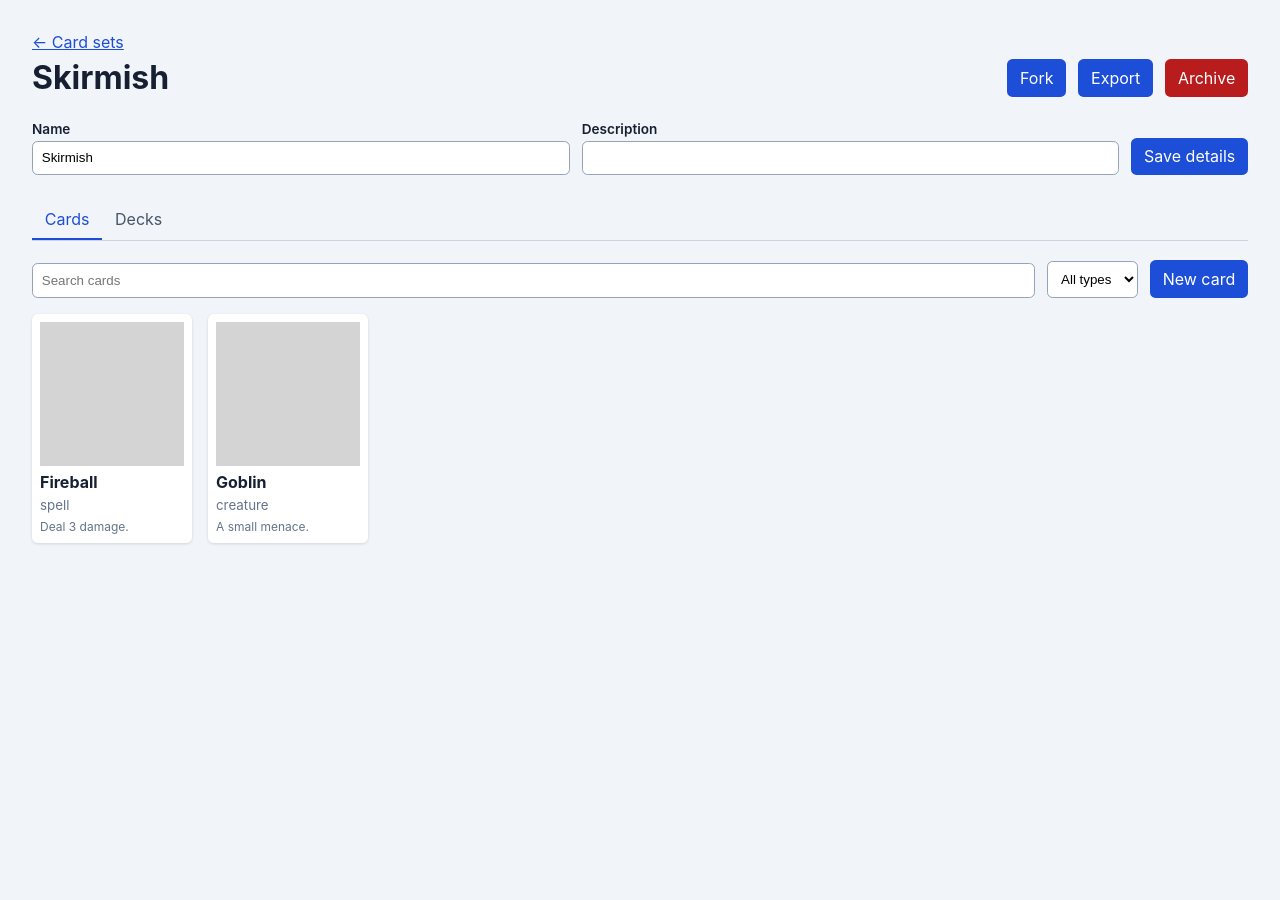
it: SetScreen › offers a fork when archiving is refused because a room uses the set
Click the button "Archive" at (1207,78), box [1165, 59, 1248, 97]
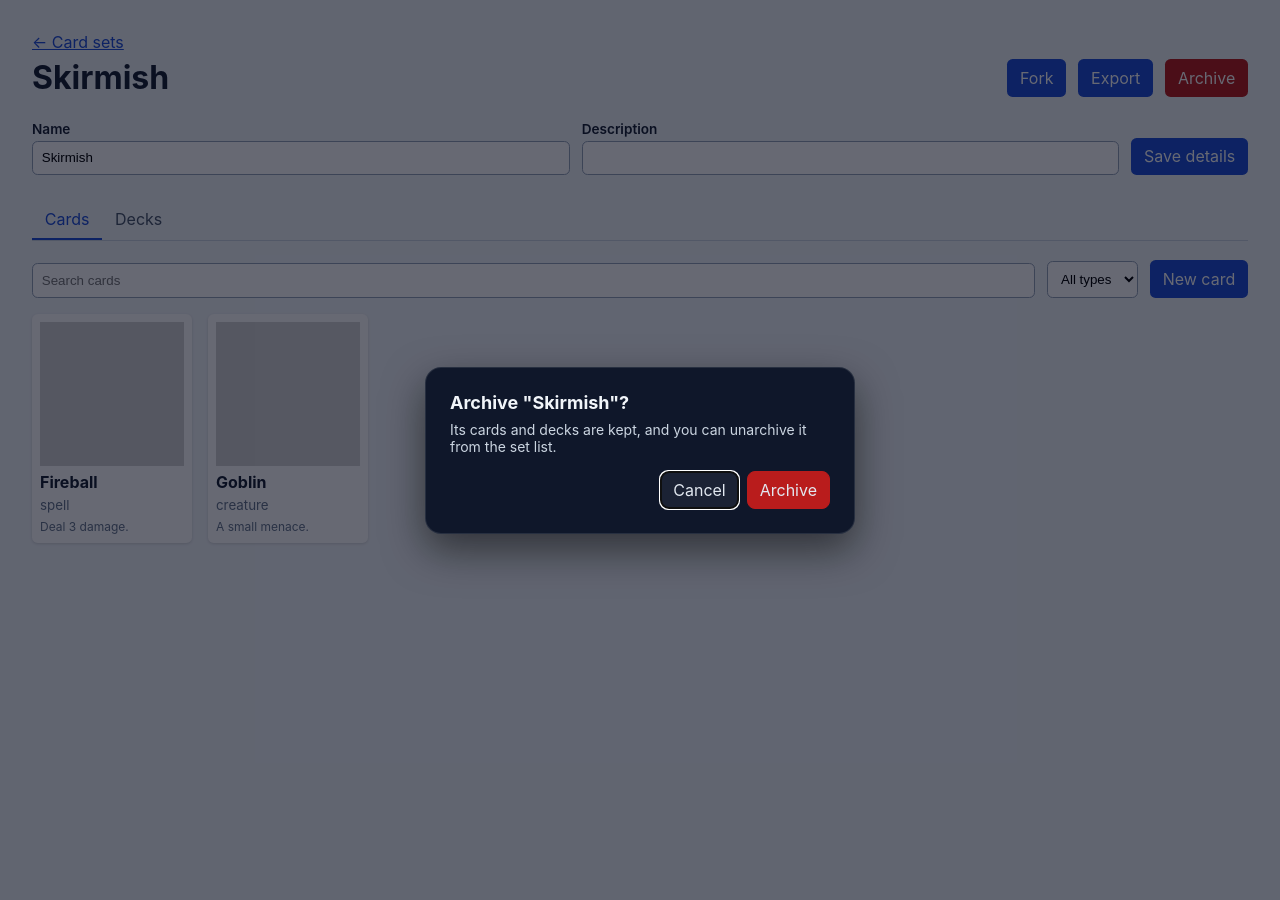
Click the button "Archive" at (788,490), box [747, 470, 830, 508]
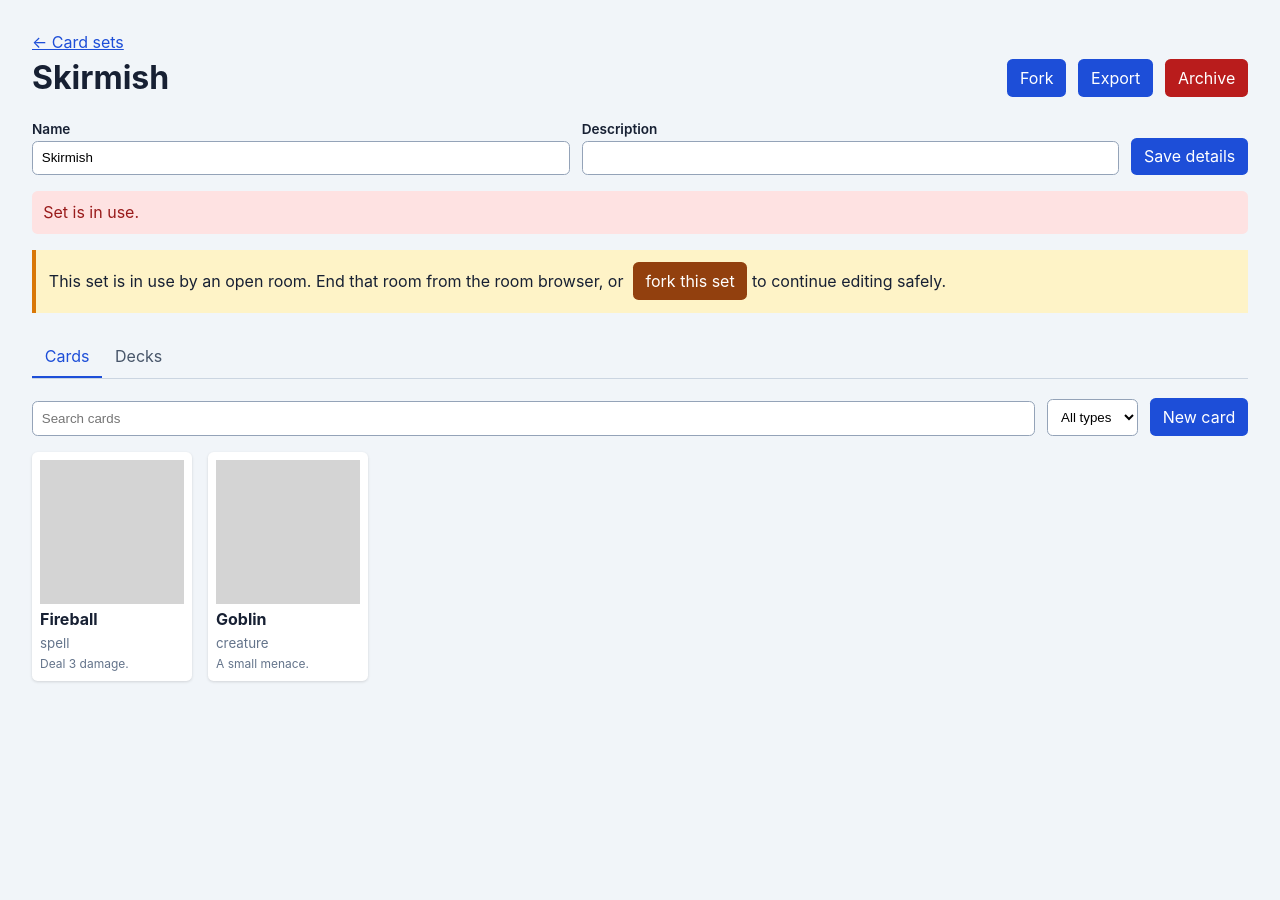
Expected: the text "This set is in use by an open room" is shown, [49, 271, 624, 291]
Expected: the button "fork this set" is shown, [633, 262, 748, 300]
